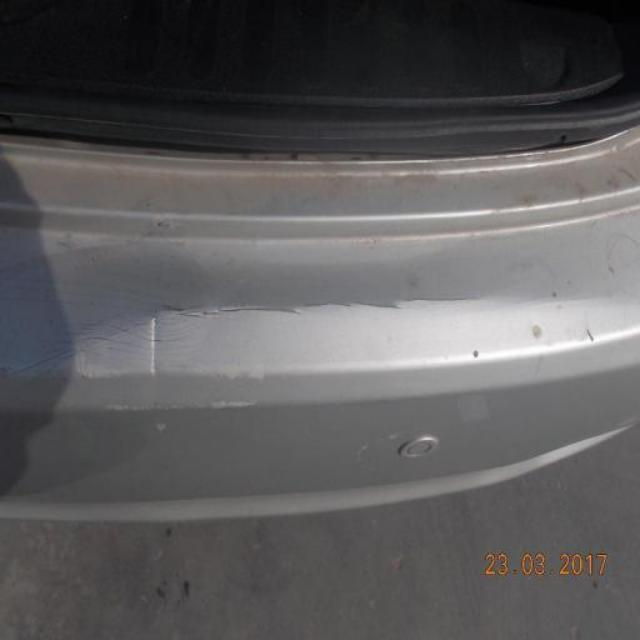dent: (7, 281, 499, 381)
